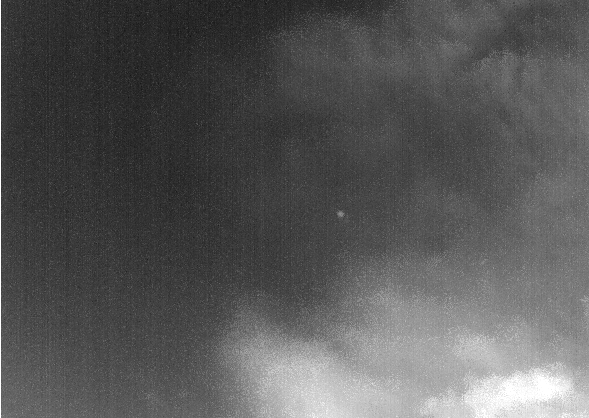dim target: (335, 210, 344, 217)
